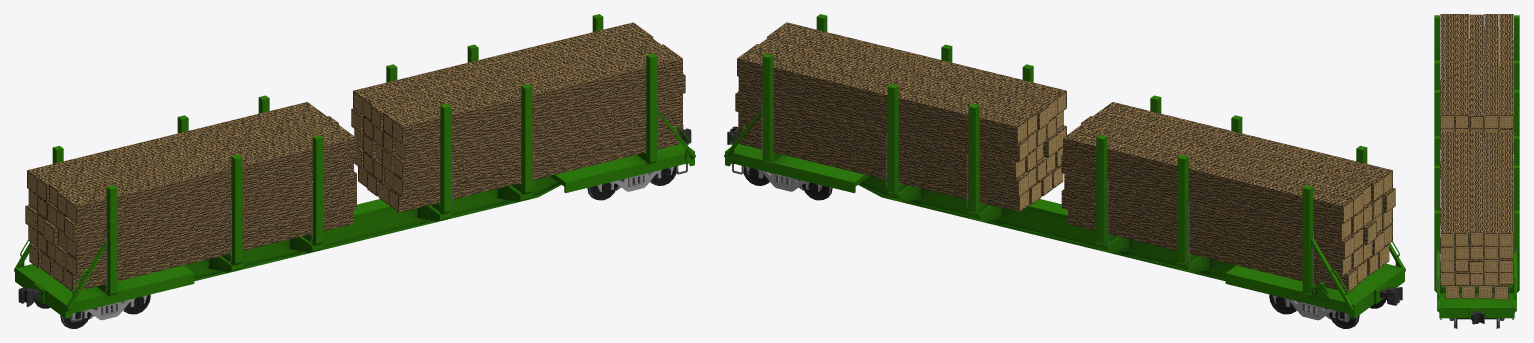
The model's file is 100ton_logcar.obj.
3 renders of one model, left to right at view 1: azimuth 30°, elevation 25°; view 2: azimuth 150°, elevation 25°; view 3: azimuth 270°, elevation 25°, orthographic. The views are drawn at different scales.
Visible parts, largest first — view 1: CARGO_FILL_100_Cube.005, FRAME_Cube.008, CARGO_FILL_80_Cube.004, CARGO_FILL_60_Cube.002, CARGO_FILL_40_Cube.001, SHELL_Cube.003, CARGO_FILL_1_Cube, CHAINS_Cube.011, BOGEY_FRONT_Cube.007, BOGEY_REAR_Cube.010; view 2: CARGO_FILL_100_Cube.005, FRAME_Cube.008, CARGO_FILL_80_Cube.004, CARGO_FILL_60_Cube.002, CARGO_FILL_40_Cube.001, SHELL_Cube.003, CARGO_FILL_1_Cube, CHAINS_Cube.011, BOGEY_FRONT_Cube.007, BOGEY_REAR_Cube.010, couplers_couplers.001; view 3: CARGO_FILL_100_Cube.005, SHELL_Cube.003, CARGO_FILL_80_Cube.004, FRAME_Cube.008, CARGO_FILL_60_Cube.002, CARGO_FILL_1_Cube, CARGO_FILL_40_Cube.001, couplers_couplers.001, BOGEY_REAR_WHEEL_1_Cylinder.004, CHAINS_Cube.011, Handrails_Cylinder.
Part boxes in pixels (x1,y1,x2,y2): CARGO_FILL_100_Cube.005: (27,22,682,223); FRAME_Cube.008: (15,141,694,322); CARGO_FILL_80_Cube.004: (28,73,685,242); CARGO_FILL_60_Cube.002: (25,94,682,259); CARGO_FILL_40_Cube.001: (28,111,682,276); SHELL_Cube.003: (14,14,695,311); CARGO_FILL_1_Cube: (29,130,679,292); CHAINS_Cube.011: (105,104,658,292); BOGEY_FRONT_Cube.007: (72,295,147,320); BOGEY_REAR_Cube.010: (597,166,674,191); CARGO_FILL_100_Cube.005: (737,22,1392,223); FRAME_Cube.008: (725,143,1404,322); CARGO_FILL_80_Cube.004: (738,77,1395,241); CARGO_FILL_60_Cube.002: (735,91,1392,259); CARGO_FILL_40_Cube.001: (738,112,1392,276); SHELL_Cube.003: (724,14,1405,311); CARGO_FILL_1_Cube: (739,130,1389,292); CHAINS_Cube.011: (761,104,1314,291); BOGEY_FRONT_Cube.007: (1272,295,1347,320); BOGEY_REAR_Cube.010: (745,166,822,191); couplers_couplers.001: (727,126,1402,305); CARGO_FILL_100_Cube.005: (1440,14,1513,246); SHELL_Cube.003: (1434,15,1519,312); CARGO_FILL_80_Cube.004: (1440,27,1513,260); FRAME_Cube.008: (1439,80,1514,319); CARGO_FILL_60_Cube.002: (1440,39,1513,273); CARGO_FILL_1_Cube: (1445,66,1508,299); CARGO_FILL_40_Cube.001: (1440,142,1513,286); couplers_couplers.001: (1471,311,1484,324); BOGEY_REAR_WHEEL_1_Cylinder.004: (1449,318,1504,328); CHAINS_Cube.011: (1436,200,1517,289); Handrails_Cylinder: (1438,278,1515,298).
Size of the model in its own units: 19.78 by 4.1 by 2.96.
Materials: 3 (3 with a texture image).
